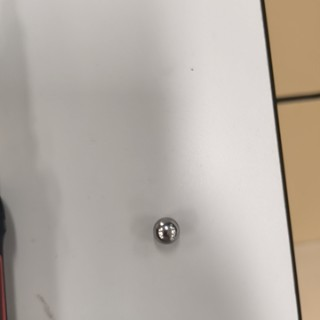ironball: (144, 206, 190, 256)
